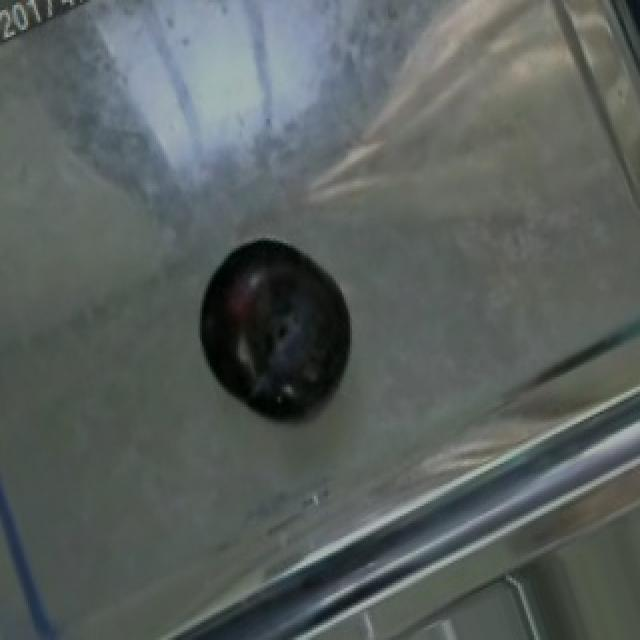Fruit: (184, 223, 378, 427)
